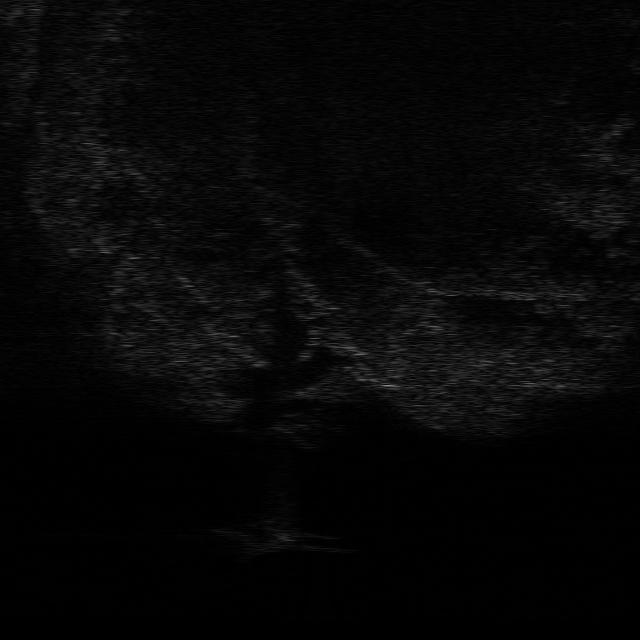plane: (215, 518, 349, 559)
